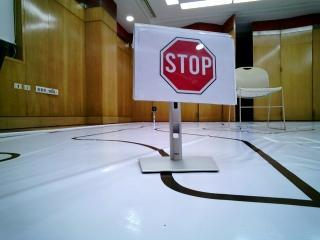stop: (149, 35, 230, 103)
